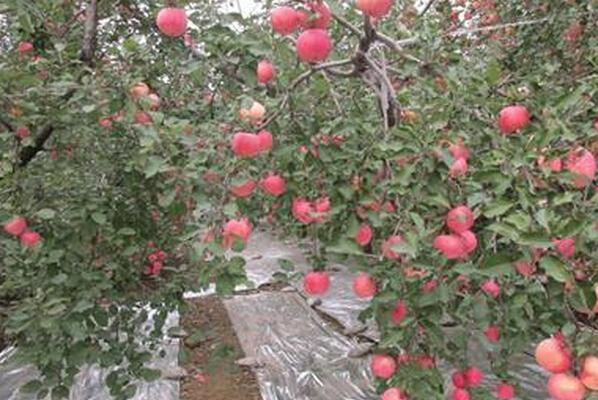apple: (535, 338, 571, 371), (298, 29, 330, 62), (156, 8, 189, 36), (550, 374, 583, 400), (271, 7, 299, 31), (500, 107, 529, 129), (304, 272, 331, 294)
